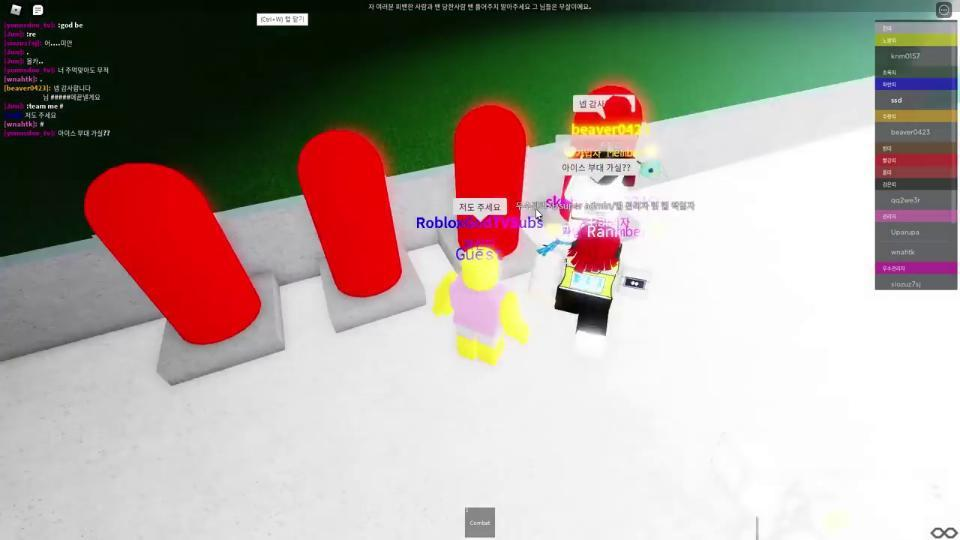Character: (531, 225, 650, 342), (434, 247, 530, 365)
